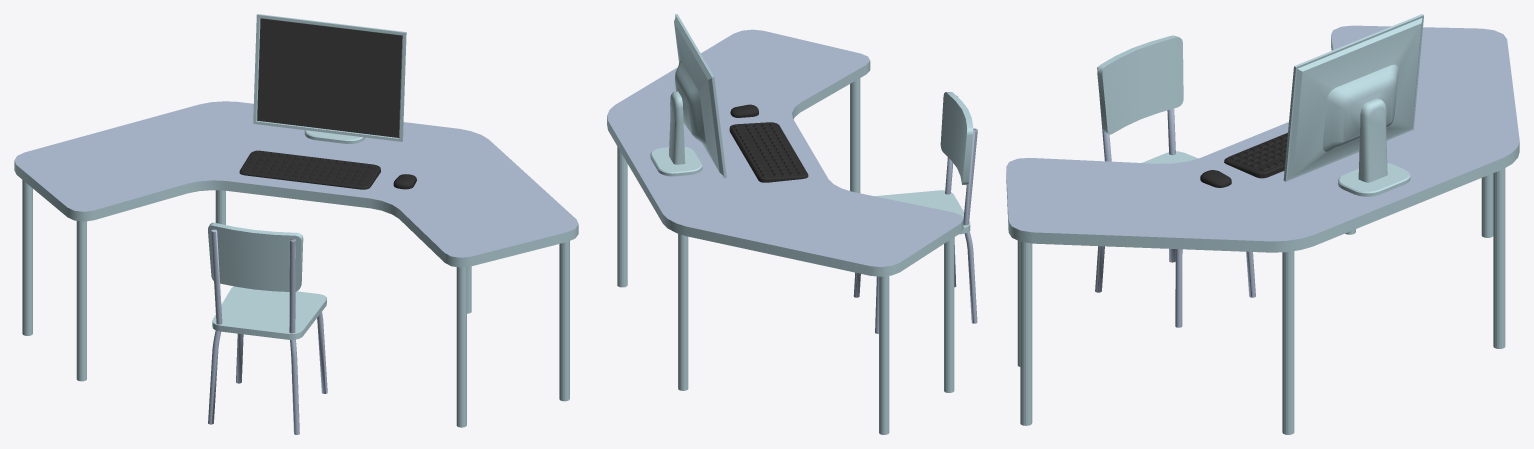
File: ScanningTable.fbx
The picture shows the model from 3 angles, left to right: view 1: azimuth 30°, elevation 25°; view 2: azimuth 150°, elevation 25°; view 3: azimuth 270°, elevation 25°; orthographic projection. The views are drawn at different scales.
Visible parts, largest first — view 1: 09.SecurityCheck; view 2: 09.SecurityCheck; view 3: 09.SecurityCheck.
Boxes of the visible parts, left/top/right/bottom form: 09.SecurityCheck: left=14, top=14, right=578, bottom=434; 09.SecurityCheck: left=607, top=14, right=977, bottom=434; 09.SecurityCheck: left=1006, top=14, right=1519, bottom=434.
Size of the model in its own units: 5.49 by 3.95 by 5.52.
Materials: 1 (1 with a texture image).
